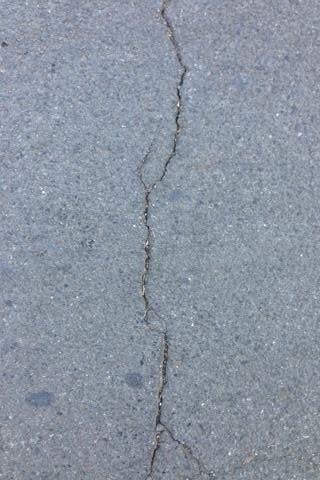A: (134, 3, 216, 480)
